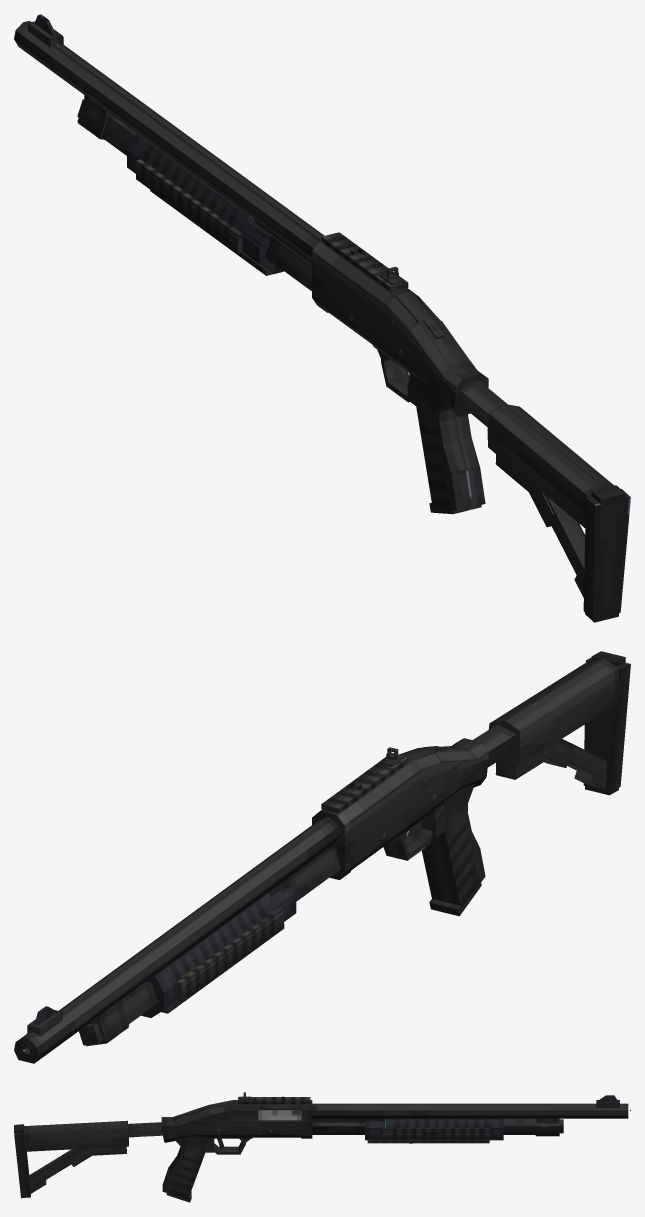
The picture shows the model from 3 angles, top to bottom: view 1: azimuth 30°, elevation 25°; view 2: azimuth 150°, elevation 25°; view 3: azimuth 270°, elevation 25°; orthographic projection. The views are drawn at different scales.
Parts seen in each view (by area): view 1: gun_82, stock_23, pump_15; view 2: gun_82, stock_23, pump_15, ironsight_5; view 3: gun_82, stock_23, pump_15, action_1, ironsight_5.
Part boxes in pixels (bbox=[...]): gun_82: bbox=[14, 21, 488, 514]; stock_23: bbox=[460, 380, 630, 622]; pump_15: bbox=[127, 134, 283, 275]; gun_82: bbox=[14, 738, 488, 1063]; stock_23: bbox=[473, 651, 630, 795]; pump_15: bbox=[141, 884, 296, 1017]; ironsight_5: bbox=[27, 1006, 62, 1036]; gun_82: bbox=[161, 1097, 628, 1202]; stock_23: bbox=[14, 1120, 162, 1198]; pump_15: bbox=[365, 1118, 503, 1143]; action_1: bbox=[258, 1110, 301, 1120]; ironsight_5: bbox=[596, 1095, 619, 1107].
Size of the model in its own units: 0.35 by 1.47 by 7.8.
